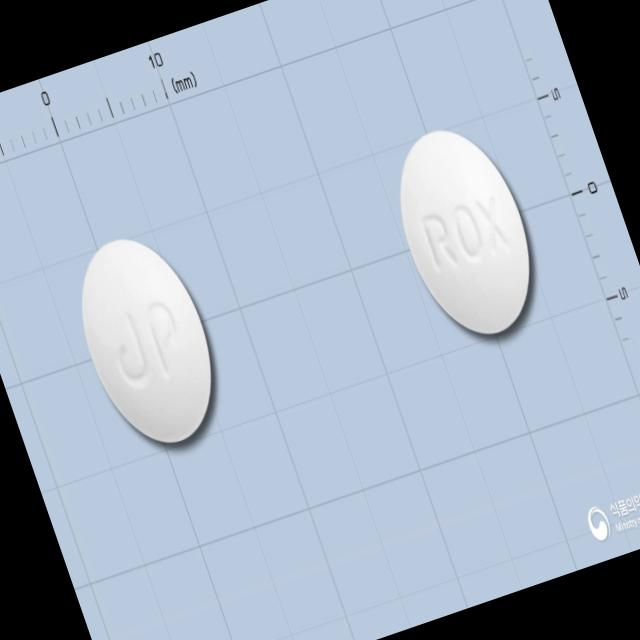Roxinmycin Tab: (374, 111, 556, 352), (58, 222, 238, 460)
